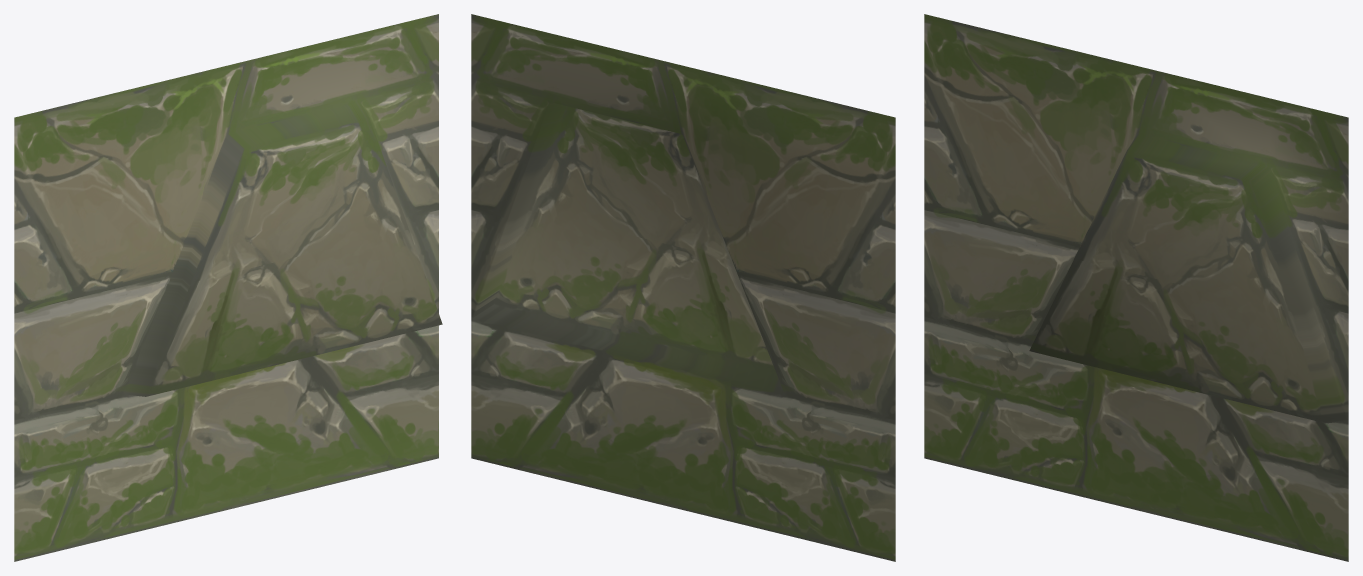
File: wall2.fbx
3 renders of one model, left to right at view 1: azimuth 30°, elevation 25°; view 2: azimuth 150°, elevation 25°; view 3: azimuth 330°, elevation 25°, orthographic.
Parts seen in each view (by area): view 1: wall3; view 2: wall3; view 3: wall3.
Boxes of the visible parts, box(x1,y1,x2,y2) form: wall3: box(14, 14, 442, 561); wall3: box(471, 14, 895, 561); wall3: box(924, 14, 1348, 561).
Size of the model in its own units: 2 by 2 by 0.1085.
